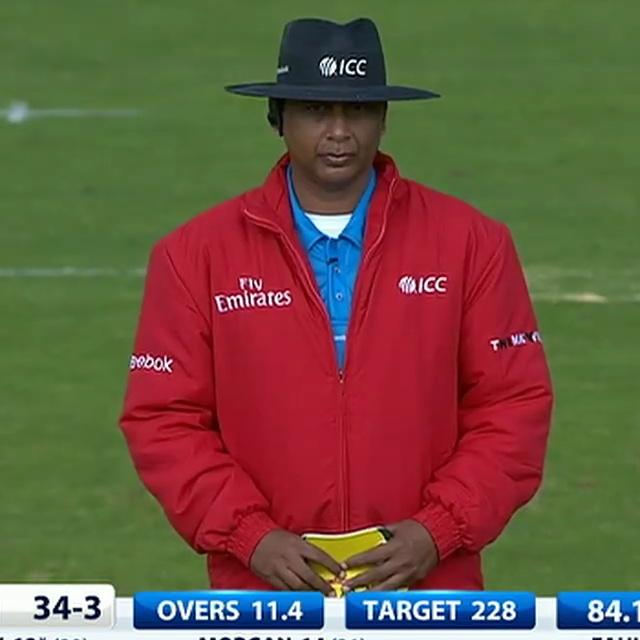umpire: (96, 0, 573, 592)
